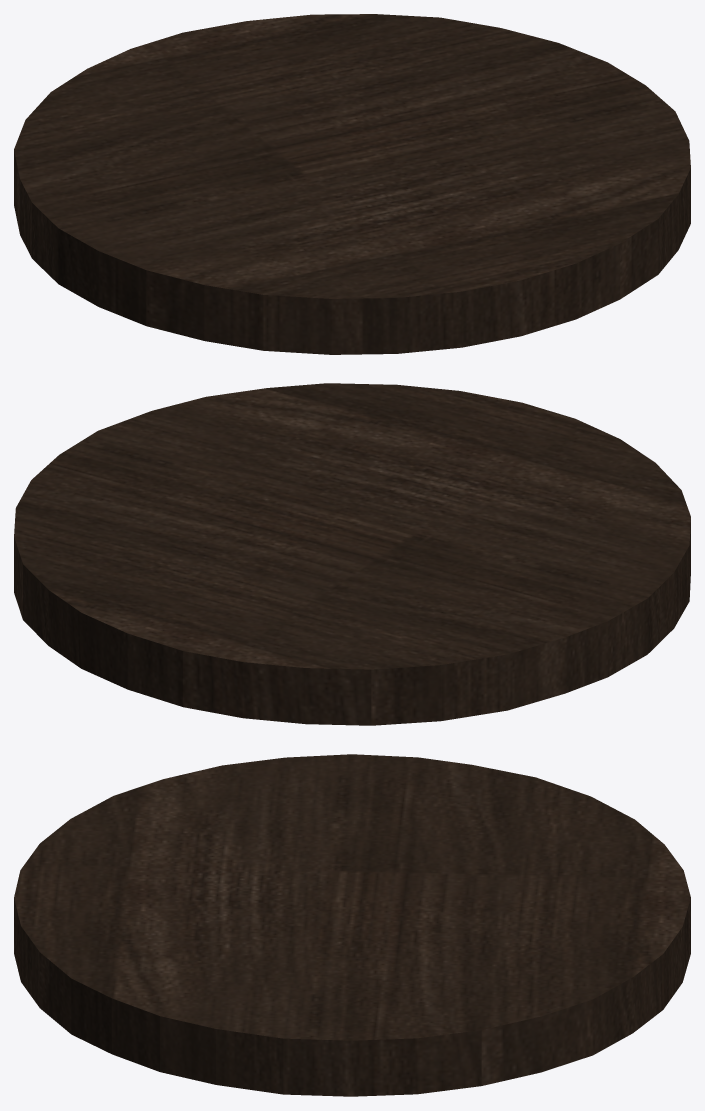
The model's file is simple-dartboard-61699f.glb.
3 views of the same model, one above another, from view 1: azimuth 30°, elevation 25°; view 2: azimuth 150°, elevation 25°; view 3: azimuth 270°, elevation 25° (orthographic).
Visible parts, largest first — view 1: PropMesh; view 2: PropMesh; view 3: PropMesh.
Part boxes in pixels (x1,y1,x2,y2): PropMesh: (14, 14, 690, 354); PropMesh: (14, 383, 690, 725); PropMesh: (14, 754, 690, 1096).
Bounding box in the file's own units: 3.84 × 0.3499 × 3.83.
1 material, 1 textured.
